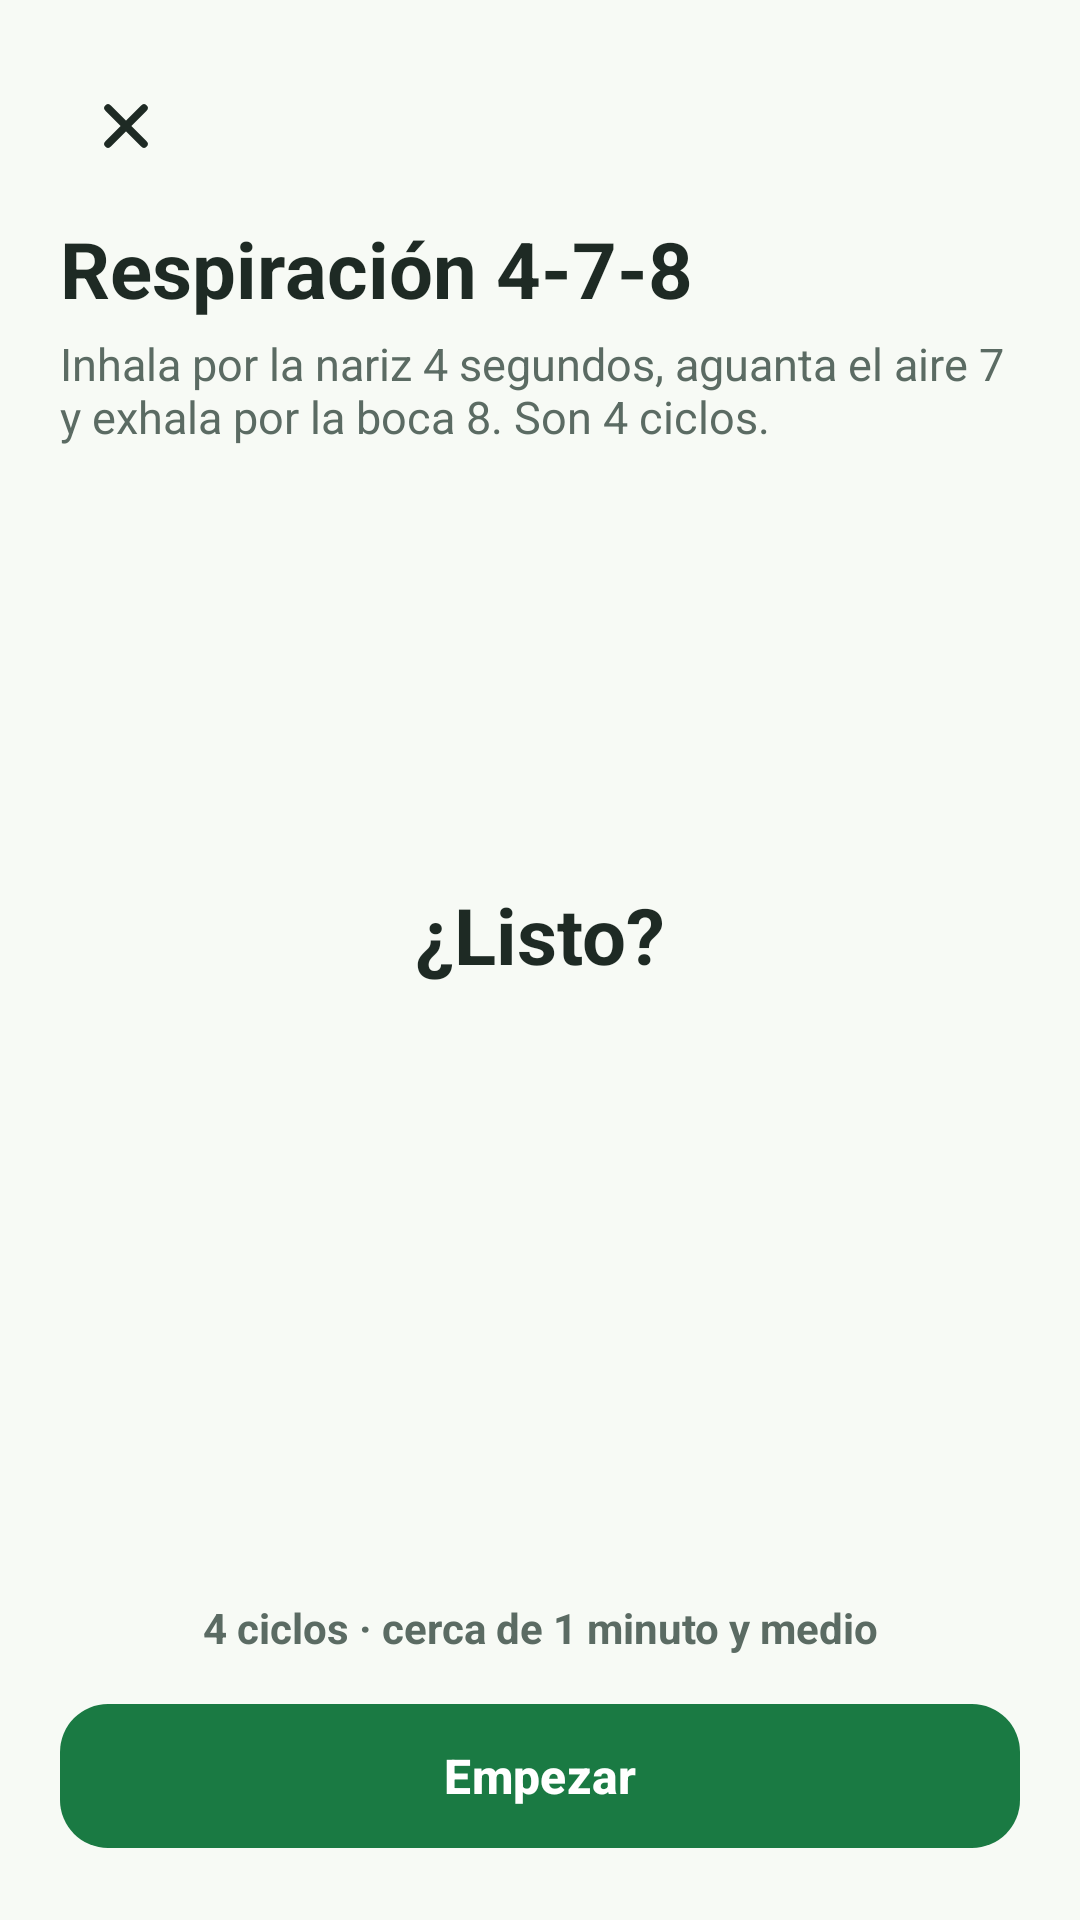

Where to tap for icons on this 1080x1920 app screen, as (x,y):
Cerrar: (126,126)
